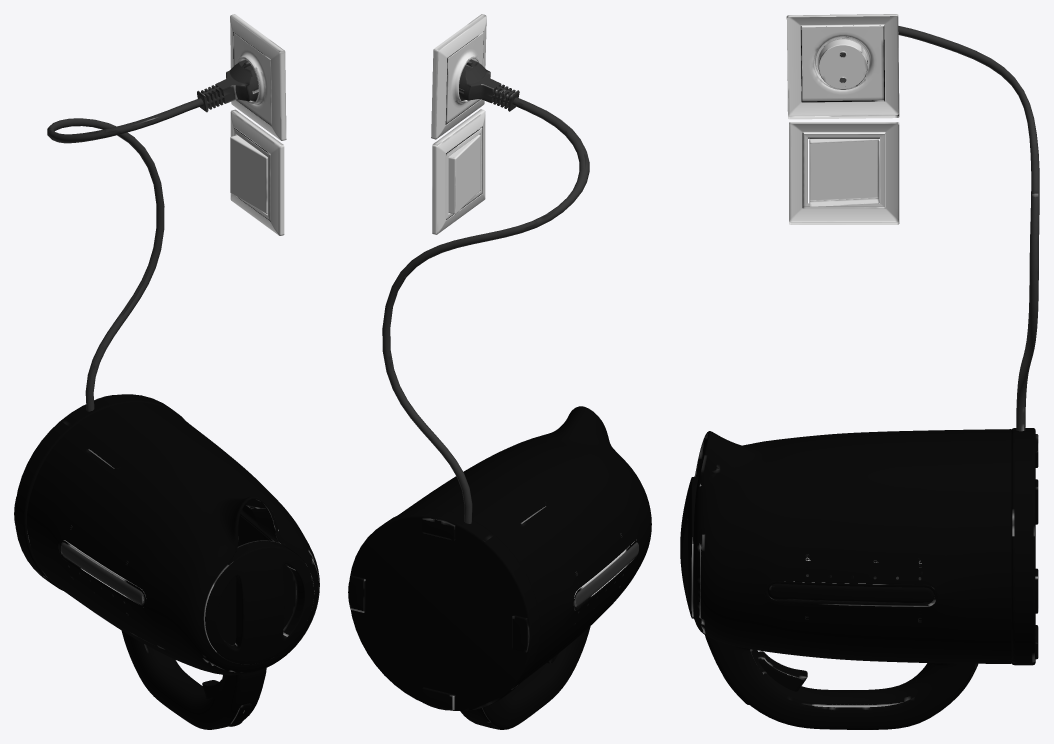
The model's file is kitchen_background_pot.obj.
3 views of the same model, side by side, from view 1: azimuth 30°, elevation 25°; view 2: azimuth 150°, elevation 25°; view 3: azimuth 270°, elevation 25° (orthographic). The views are drawn at different scales.
Visible parts, largest first — view 1: off; view 2: off; view 3: off.
Part boxes in pixels (x1,y1,x2,y2): off: [14, 14, 319, 729]; off: [348, 14, 651, 729]; off: [680, 14, 1039, 729].
Size of the model in its own units: 18.03 by 61.95 by 27.1.
Materials: 5 (5 with a texture image).
